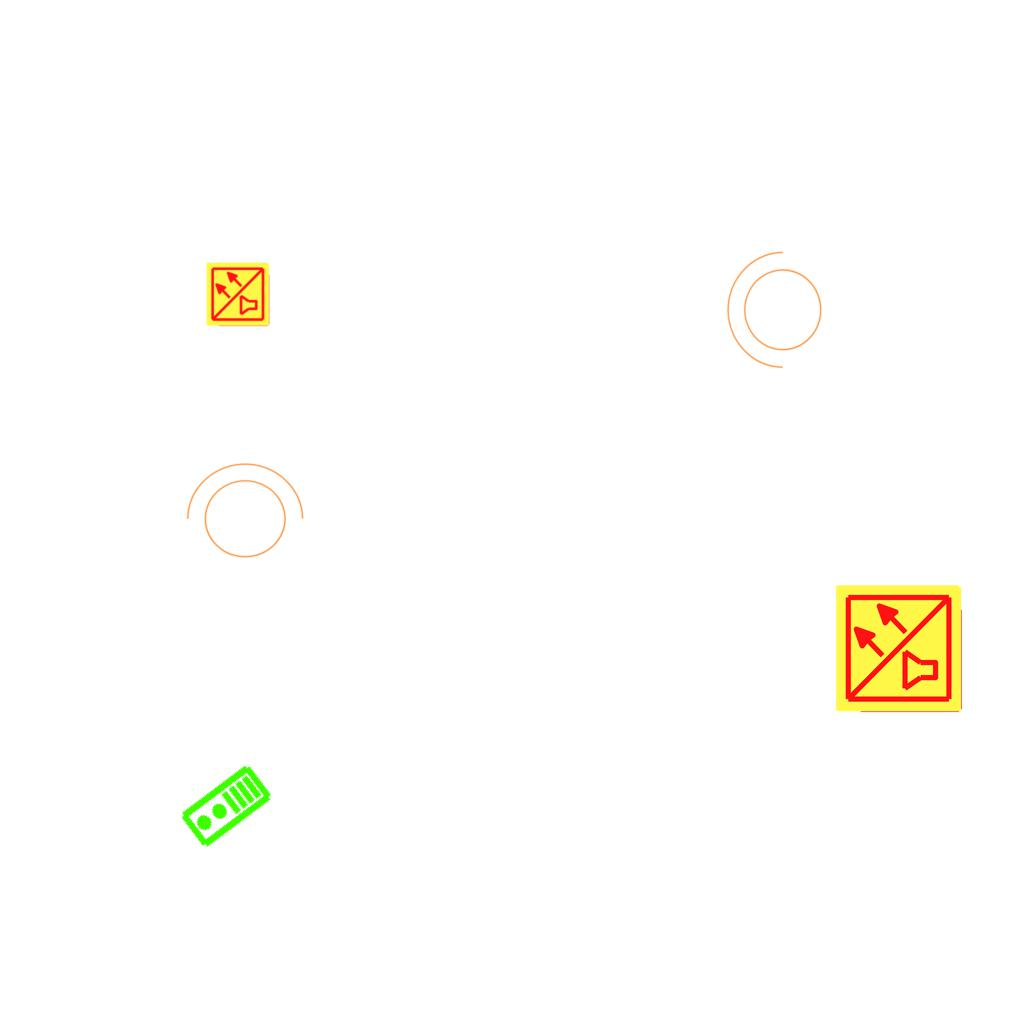Gegensprechanlage_mit_Video: (177, 761, 276, 853)
OKW_Multisensormelder_(Kombination_optischer_Rauch-Kahlenmonoxid_Waerme-Melder): (833, 582, 965, 714), (205, 261, 271, 327)
Scheinwerfer_fuer_Alarmbeleuchtung: (722, 247, 834, 379), (176, 458, 308, 570)
